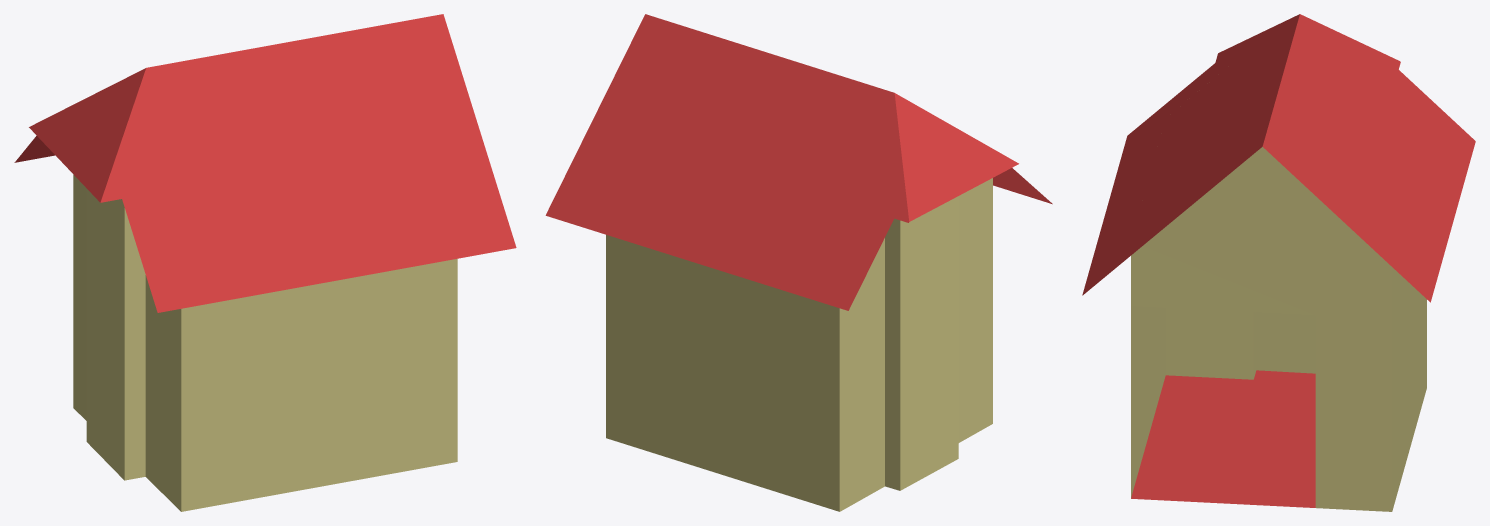
The picture shows the model from 3 angles, left to right: view 1: azimuth 30°, elevation 25°; view 2: azimuth 150°, elevation 25°; view 3: azimuth 270°, elevation 25°; orthographic projection. The views are drawn at different scales.
Bounding box in the file's own units: 14.81 × 13.46 × 14.23.
